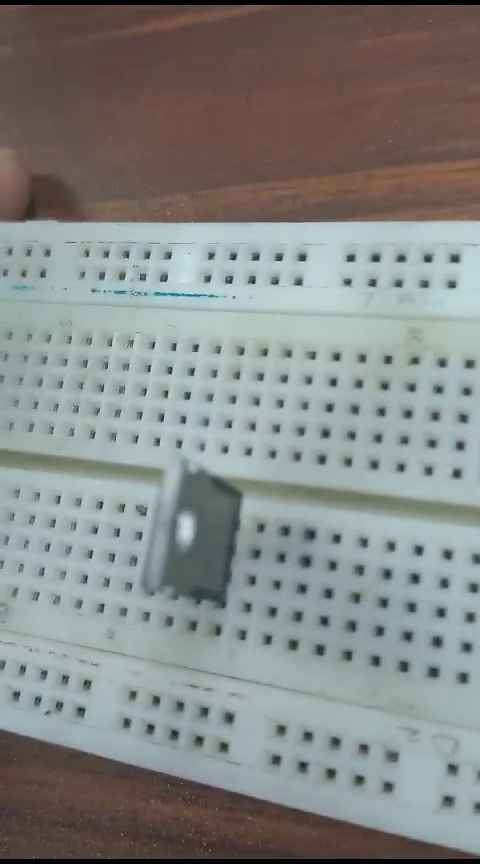voltage regulator: (146, 451, 244, 615)
